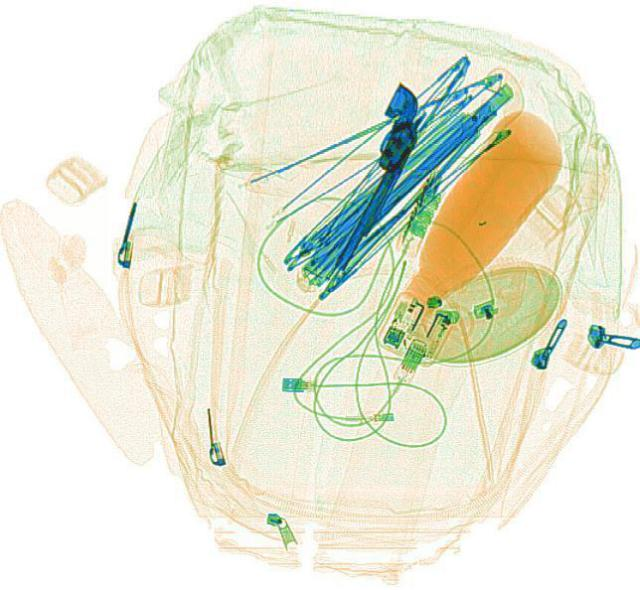Gun: (318, 78, 436, 271)
